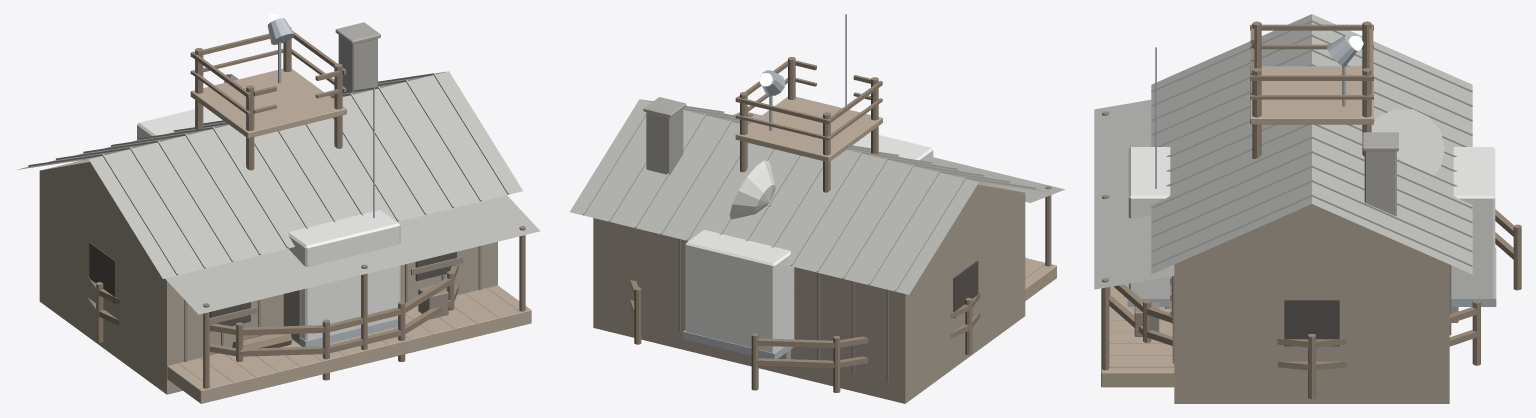
Rendered from ranch.glb.
3 renders of one model, left to right at view 1: azimuth 30°, elevation 25°; view 2: azimuth 150°, elevation 25°; view 3: azimuth 270°, elevation 25°, orthographic. The views are drawn at different scales.
Parts seen in each view (by area): view 1: rn_house_mesh, rn_trailer_mesh, rn_tower_mesh, rn_corral_mesh; view 2: rn_house_mesh, rn_trailer_mesh, rn_tower_mesh, rn_corral_mesh; view 3: rn_house_mesh, rn_trailer_mesh, rn_tower_mesh, rn_corral_mesh.
Boxes of the visible parts, left/top/right/bottom form: rn_house_mesh: left=16, top=22, right=540, bottom=403; rn_trailer_mesh: left=137, top=74, right=400, bottom=346; rn_tower_mesh: left=190, top=14, right=346, bottom=170; rn_corral_mesh: left=87, top=264, right=458, bottom=380; rn_house_mesh: left=570, top=97, right=1064, bottom=403; rn_trailer_mesh: left=683, top=14, right=933, bottom=359; rn_tower_mesh: left=735, top=57, right=882, bottom=192; rn_corral_mesh: left=630, top=280, right=980, bottom=392; rn_house_mesh: left=1094, top=14, right=1472, bottom=403; rn_trailer_mesh: left=1127, top=47, right=1496, bottom=322; rn_tower_mesh: left=1250, top=21, right=1373, bottom=158; rn_corral_mesh: left=1109, top=209, right=1521, bottom=399.
Size of the model in its own units: 9.8 by 7.08 by 9.32.
